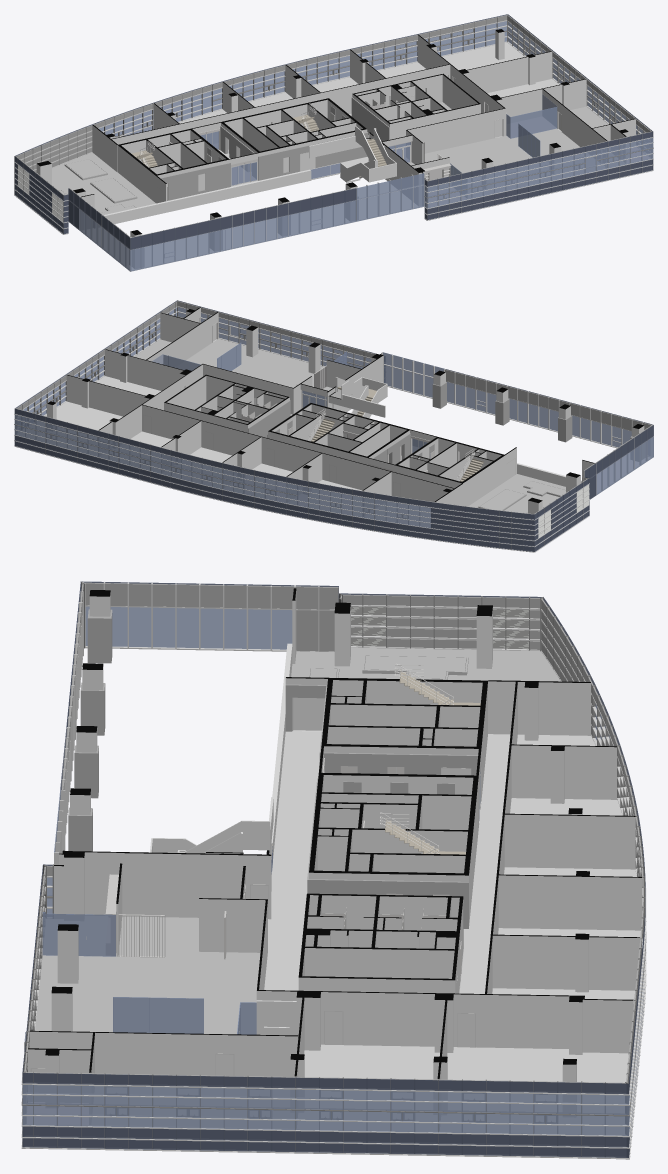
3 renders of one model, top to bottom at view 1: azimuth 30°, elevation 25°; view 2: azimuth 150°, elevation 25°; view 3: azimuth 270°, elevation 25°, orthographic. The views are drawn at different scales.
Visible parts, largest first — view 1: A5-2F_Wall, A5-2F_Glass, A5-2F_GlassFrame, A5-2F_Floor, A5-2F_Wall2, A5-2F_Pillar, A5-2F_Glass2, A5-2F_Stairs2, A5-2F_Door, A5-2F_AutoDoor, A5-2F_Stairs, A5-2F_Elev (+2 smaller); view 2: A5-2F_Wall, A5-2F_Glass, A5-2F_GlassFrame, A5-2F_Floor, A5-2F_Pillar, A5-2F_Door, A5-2F_Glass2, A5-2F_Wall2, A5-2F_Stairs2, A5-2F_Stairs, A5-2F_Elev; view 3: A5-2F_Wall, A5-2F_Floor, A5-2F_GlassFrame, A5-2F_Glass, A5-2F_Pillar, A5-2F_Glass2, A5-2F_Wall2, A5-2F_Door, A5-2F_Stairs2, A5-2F_Elev, A5-2F_Stairs, A5-2F_Partition2 (+1 smaller).
Part boxes in pixels (x1,y1,x2,y2): A5-2F_Wall: (81, 34, 635, 229); A5-2F_Glass: (14, 14, 653, 271); A5-2F_GlassFrame: (14, 14, 653, 271); A5-2F_Floor: (52, 42, 648, 214); A5-2F_Wall2: (160, 97, 389, 200); A5-2F_Pillar: (36, 29, 628, 268); A5-2F_Glass2: (310, 94, 557, 178); A5-2F_Stairs2: (340, 126, 396, 182); A5-2F_Door: (156, 74, 624, 203); A5-2F_AutoDoor: (198, 128, 257, 186); A5-2F_Stairs: (131, 103, 318, 167); A5-2F_Elev: (169, 106, 346, 171); A5-2F_Wall: (66, 307, 594, 514); A5-2F_Glass: (14, 300, 653, 551); A5-2F_GlassFrame: (14, 300, 653, 552); A5-2F_Floor: (19, 338, 565, 526); A5-2F_Pillar: (47, 309, 644, 513); A5-2F_Door: (143, 318, 515, 496); A5-2F_Glass2: (152, 342, 346, 406); A5-2F_Wall2: (248, 400, 410, 464); A5-2F_Stairs2: (335, 377, 387, 418); A5-2F_Stairs: (308, 409, 483, 481); A5-2F_Elev: (275, 420, 434, 472); A5-2F_Wall: (28, 588, 641, 1124); A5-2F_Floor: (27, 647, 640, 1133); A5-2F_GlassFrame: (21, 581, 646, 1159); A5-2F_Glass: (22, 581, 645, 1157); A5-2F_Pillar: (45, 590, 589, 1116); A5-2F_Glass2: (42, 844, 272, 1034); A5-2F_Wall2: (285, 684, 478, 948); A5-2F_Door: (30, 697, 475, 1101); A5-2F_Stairs2: (150, 820, 271, 891); A5-2F_Elev: (340, 745, 469, 895); A5-2F_Stairs: (380, 663, 480, 854); A5-2F_Partition2: (118, 911, 226, 959).
Size of the model in its own units: 68.22 by 6.9 by 36.69.
